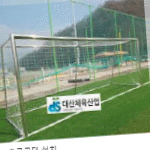goals: (1, 32, 144, 134)
